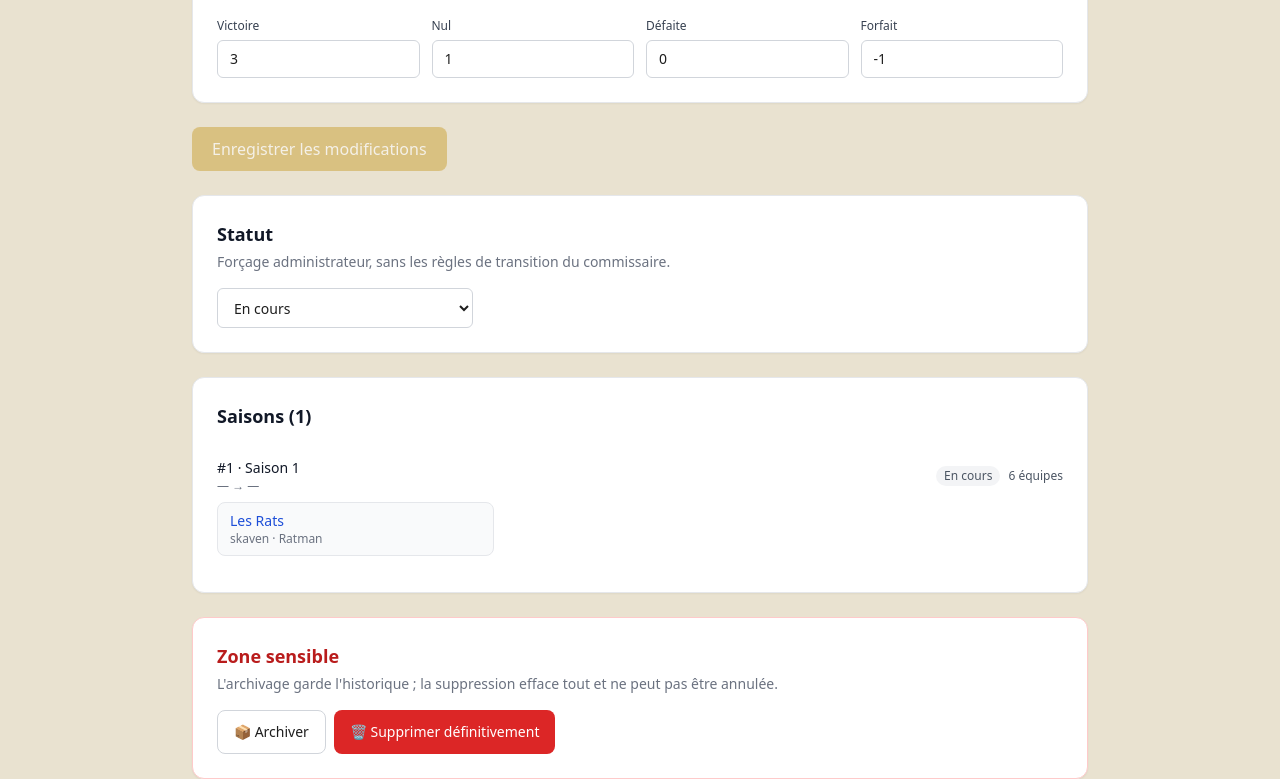
Fiche admin d'une ligue › ne supprime pas si le nom saisi ne correspond pas
(page scrolled)
Click the button with test id "admin-league-delete".
click(445, 732)  # box left=334, top=710, right=556, bottom=754
(page scrolled)
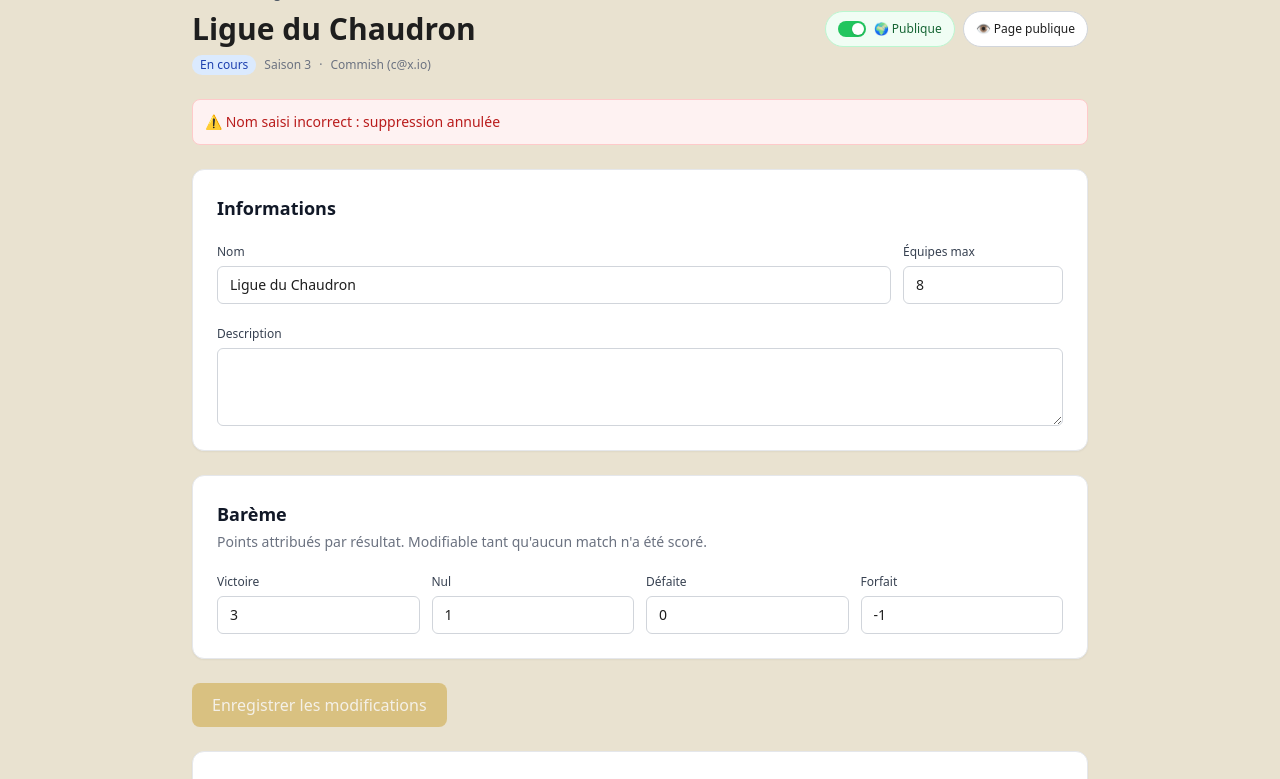
Expected: the message "⚠️ Nom saisi incorrect : suppression annulée" is shown, left=192, top=99, right=1088, bottom=145
